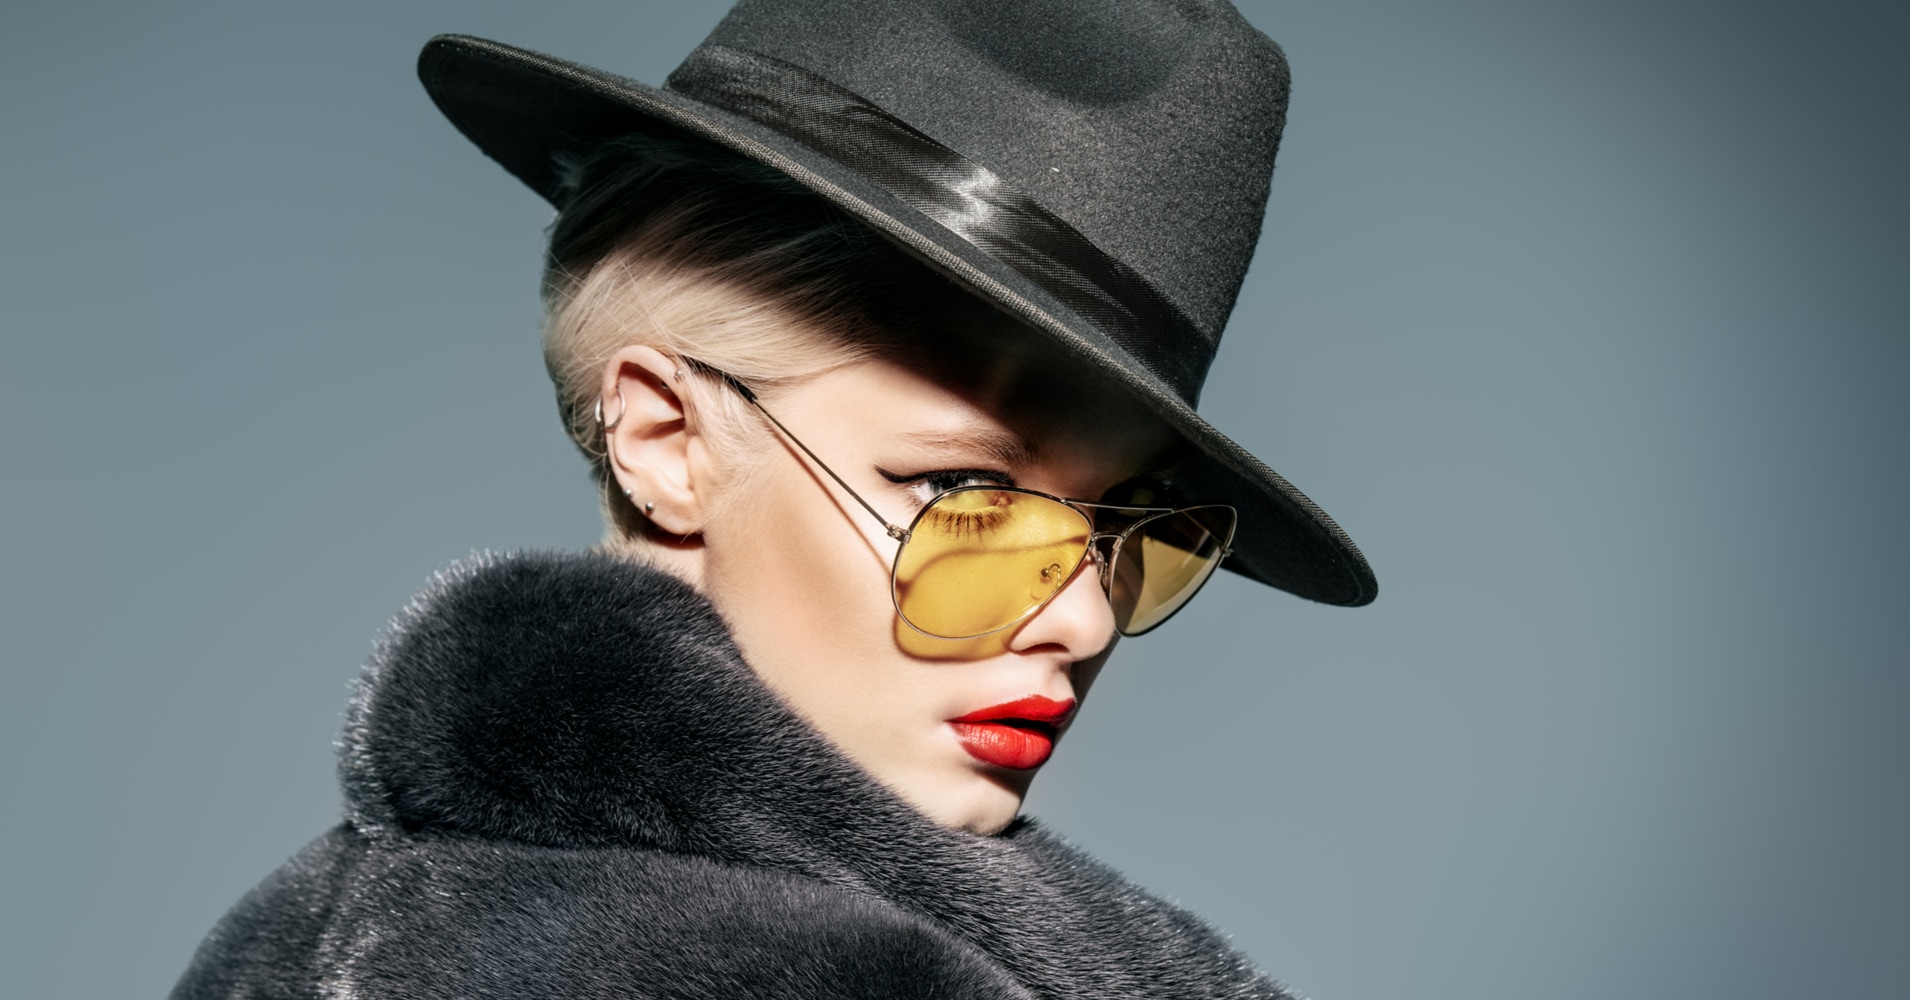human: (130, 3, 1448, 1000)
